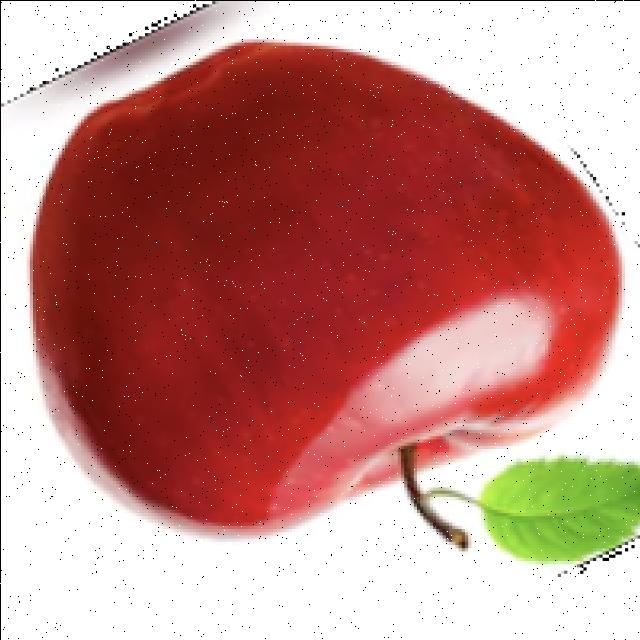apple: (26, 3, 630, 557)
